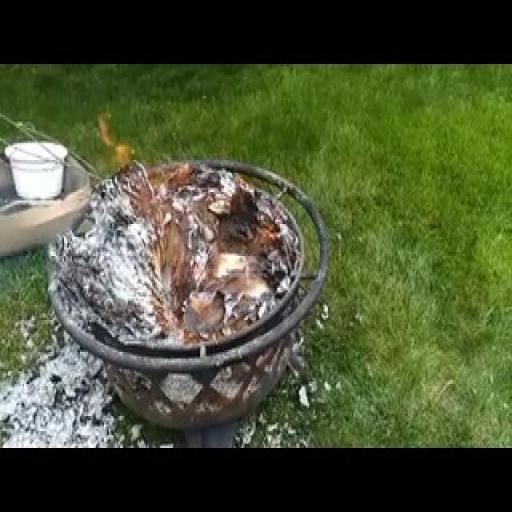smoke: (134, 234, 240, 355)
